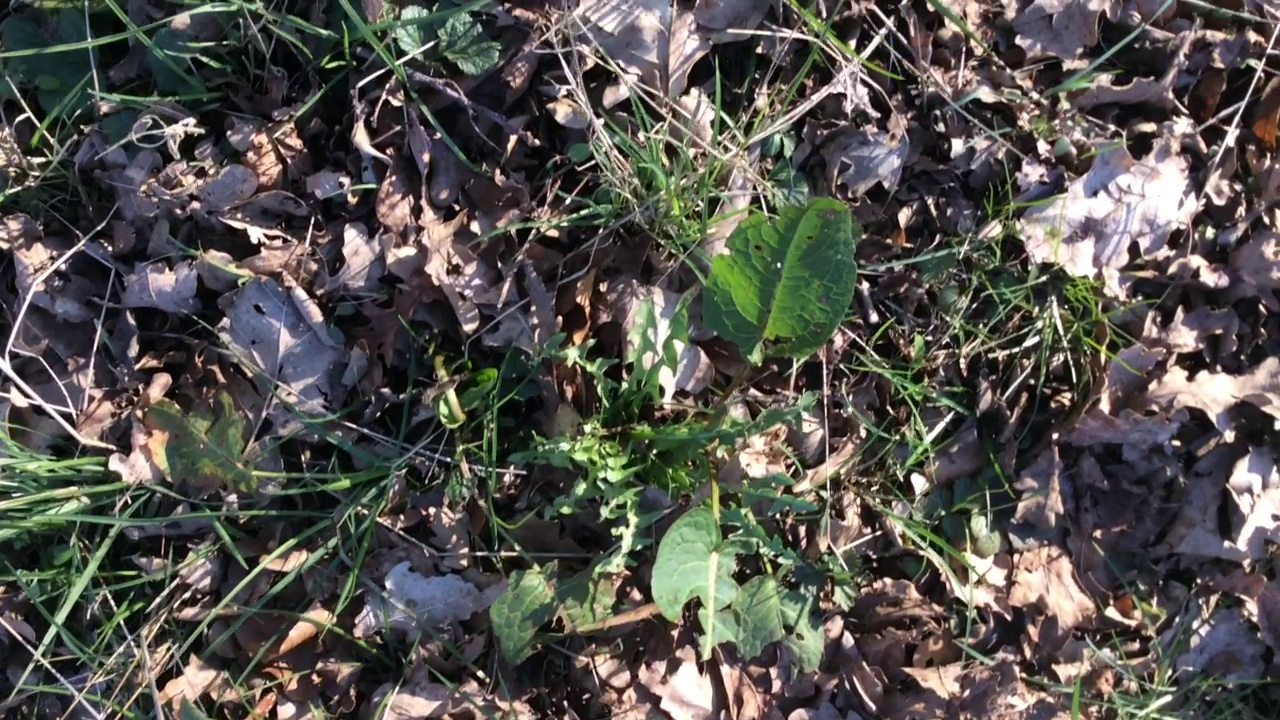rumex: (489, 198, 859, 668)
